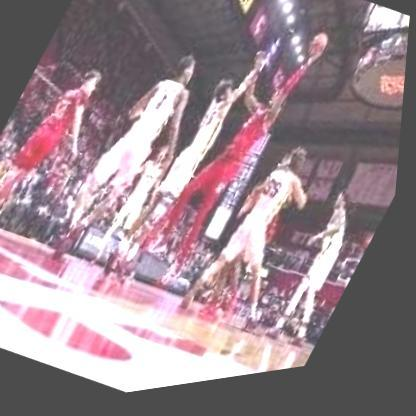basketball: (308, 38, 334, 68)
